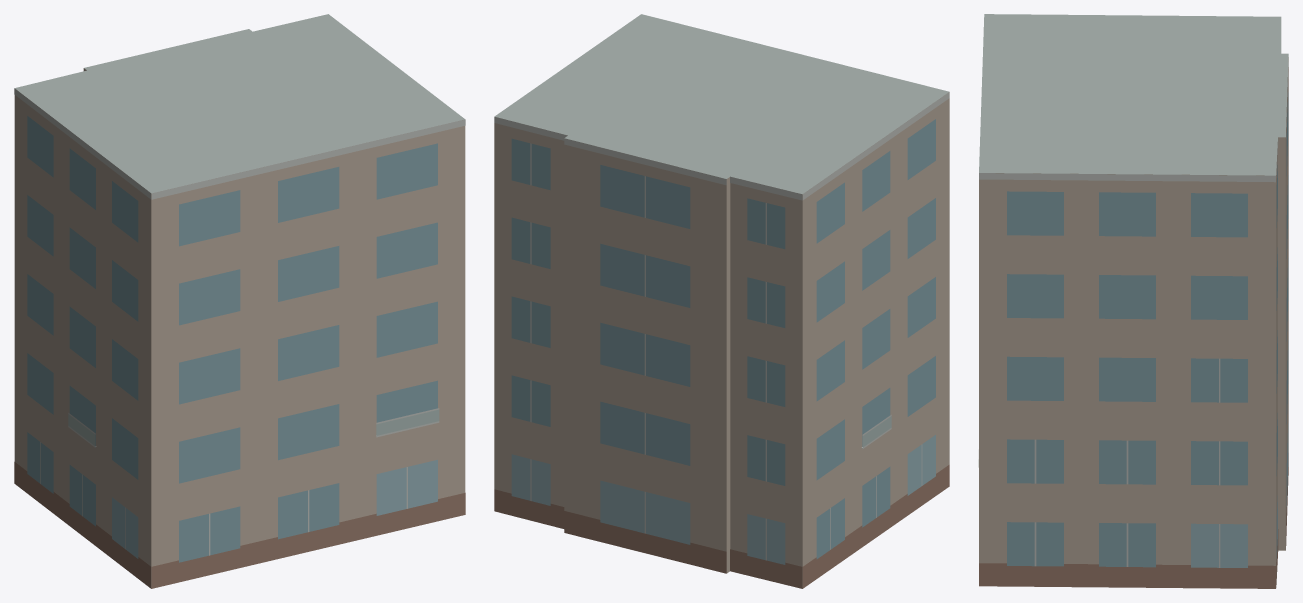
File: survey-upis-32637963.glb
3 views of the same model, side by side, from view 1: azimuth 30°, elevation 25°; view 2: azimuth 150°, elevation 25°; view 3: azimuth 270°, elevation 25° (orthographic). The views are drawn at different scales.
Parts seen in each view (by area): view 1: survey-upis-32637963.tmp; view 2: survey-upis-32637963.tmp; view 3: survey-upis-32637963.tmp.
Part boxes in pixels (box(x1,y1,x2,y2)): survey-upis-32637963.tmp: box(14, 14, 465, 588); survey-upis-32637963.tmp: box(494, 14, 949, 588); survey-upis-32637963.tmp: box(978, 14, 1288, 588).
Size of the model in its own units: 12.79 by 15.25 by 10.39.
